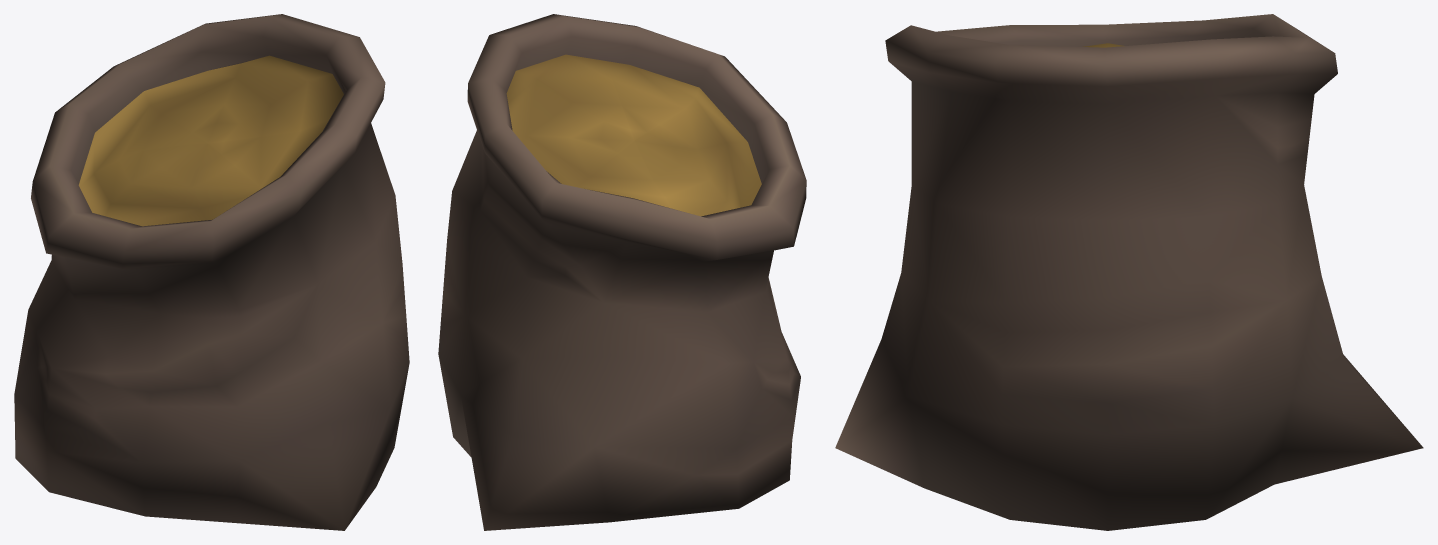
The model's file is R_Sack.fbx.
3 views of the same model, side by side, from view 1: azimuth 30°, elevation 25°; view 2: azimuth 150°, elevation 25°; view 3: azimuth 270°, elevation 25° (orthographic). The views are drawn at different scales.
Visible parts, largest first — view 1: R_Sack.009; view 2: R_Sack.009; view 3: R_Sack.009.
Boxes of the visible parts, box(x1,y1,x2,y2) form: R_Sack.009: box(14, 14, 409, 530); R_Sack.009: box(438, 14, 806, 530); R_Sack.009: box(835, 14, 1423, 530).
Size of the model in its own units: 0.7849 by 0.85 by 0.9799.
